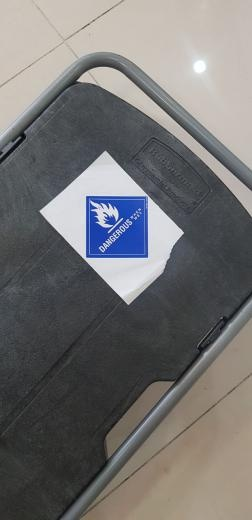Dangerous when wet: (86, 196, 148, 258)
